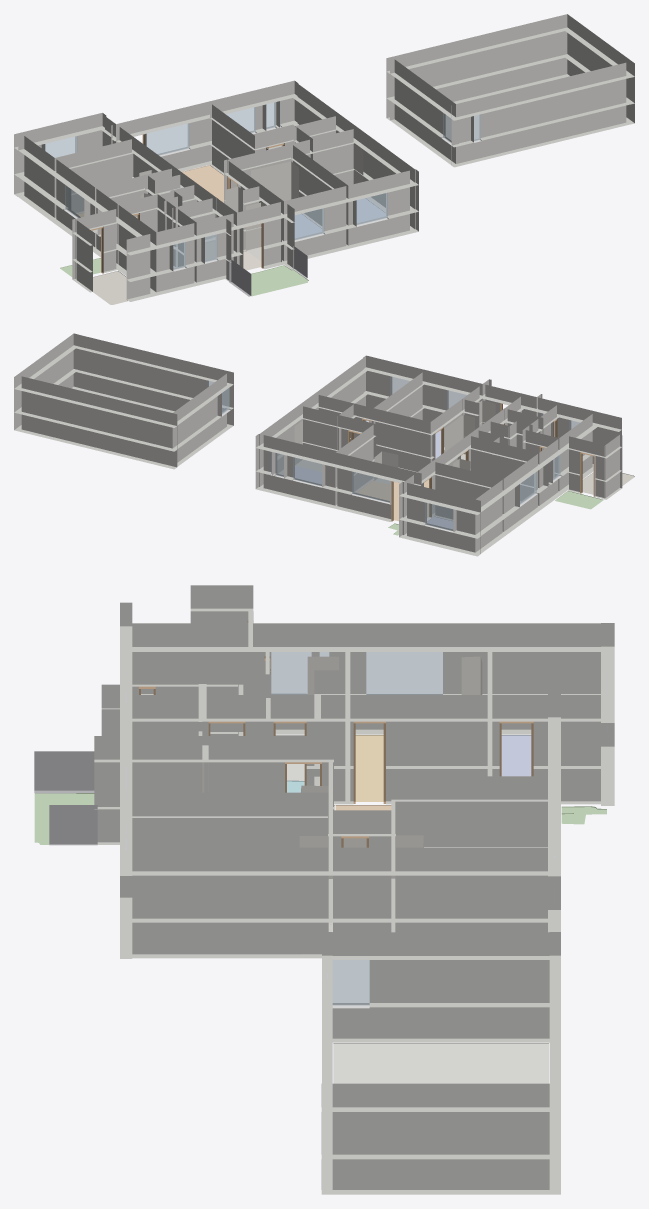
The picture shows the model from 3 angles, top to bottom: view 1: azimuth 30°, elevation 25°; view 2: azimuth 150°, elevation 25°; view 3: azimuth 270°, elevation 25°; orthographic projection. The views are drawn at different scales.
Visible parts, largest first — view 1: walls, furniture_6_closet, floor_18_Outdoor, window_3, floor_19_Storage, railings, window_6, floor_2_Living_Room, window_12, furniture_8_closet, window_2, floor_12_Bed_Room (+3 smaller); view 2: walls, window_3, floor_2_Living_Room, furniture_7_closet, window_1, window_2, floor_17_Outdoor, furniture_1_closet, window_0, furniture_24_fireplace, furniture_8_closet, floor_5_Bed_Room; view 3: walls, floor_1_Undefined, railings, window_0, floor_6_Kitchen, window_14, window_16, floor_18_Outdoor, floor_0_Bed_Room, furniture_1_closet, furniture_0_closet.
Part boxes in pixels (x1,y1,x2,y2): walls: (14,14,634,301); furniture_6_closet: (251,161,298,200); floor_18_Outdoor: (251,265,308,296); window_3: (146,123,189,155); floor_19_Storage: (93,270,127,304); railings: (229,246,307,296); window_6: (356,192,387,224); floor_2_Living_Room: (182,165,223,202); window_12: (294,208,324,240); furniture_8_closet: (246,202,281,261); window_2: (45,136,77,157); floor_12_Bed_Room: (357,198,385,222); walls: (14,333,622,556); window_3: (352,471,389,502); floor_2_Living_Room: (356,479,428,521); furniture_7_closet: (445,414,474,459); window_1: (293,457,321,486); window_2: (425,502,453,530); floor_17_Outdoor: (555,491,603,509); furniture_1_closet: (294,408,366,471); window_0: (520,472,536,504); furniture_24_fireplace: (374,451,398,484); furniture_8_closet: (464,400,495,426); floor_5_Bed_Room: (283,466,321,484); walls: (94,585,614,1194); floor_1_Undefined: (333,1043,548,1083); railings: (34,751,97,845); window_0: (366,652,442,694); floor_6_Kitchen: (355,735,383,801); window_14: (332,960,369,1005); window_16: (271,652,311,694); floor_18_Outdoor: (34,793,94,844); floor_0_Bed_Room: (501,735,531,776); furniture_1_closet: (299,835,423,954); furniture_0_closet: (461,656,482,694).
Size of the model in its own units: 27.4 by 2.72 by 13.35.
